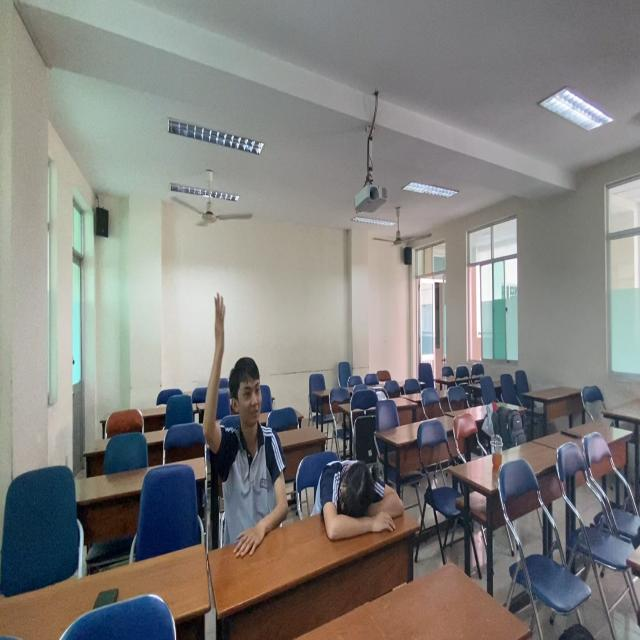raise_hand: (194, 295, 296, 537)
sleep: (312, 443, 414, 540)
